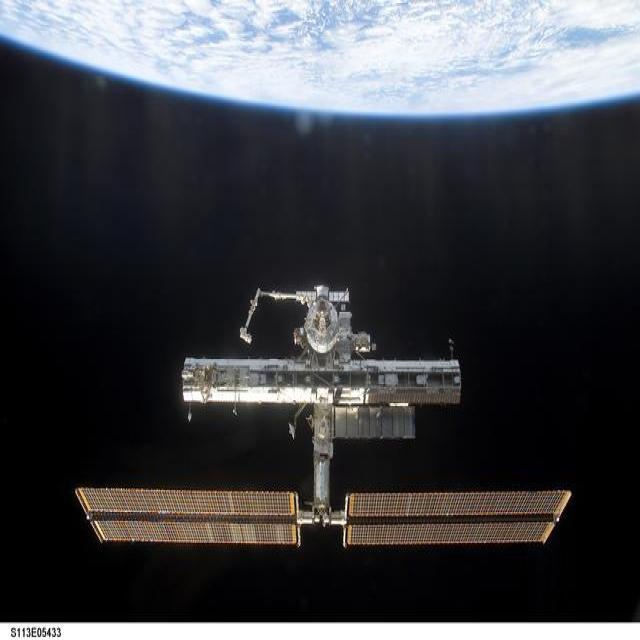satellite: (76, 287, 571, 546)
